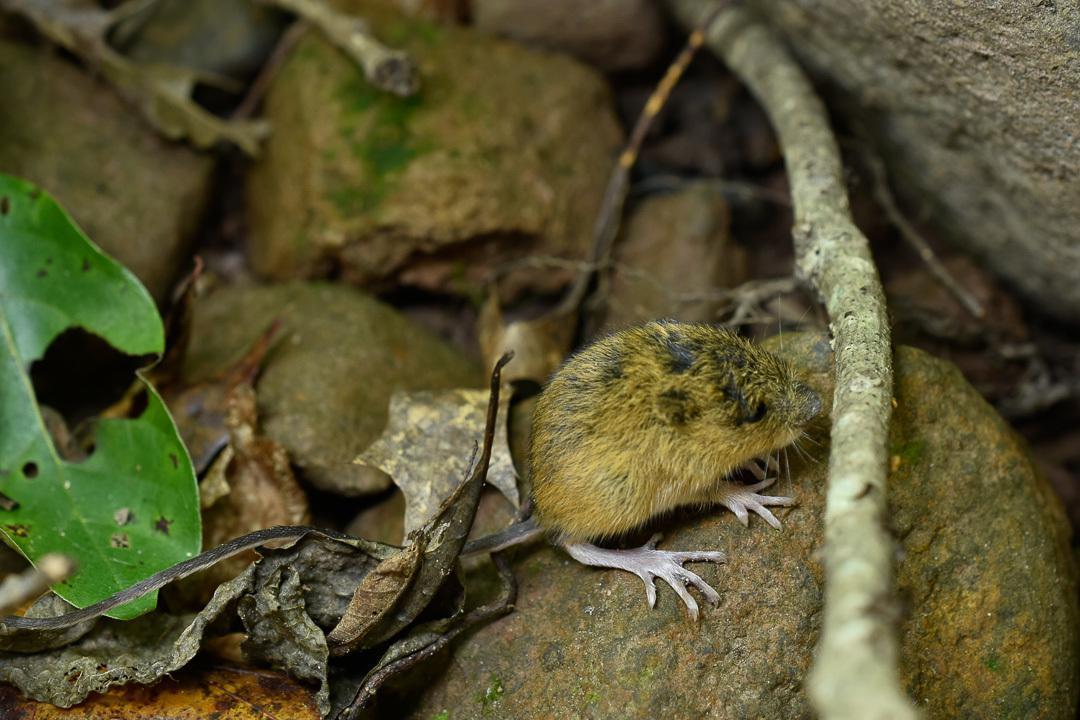rat: (530, 320, 823, 620)
